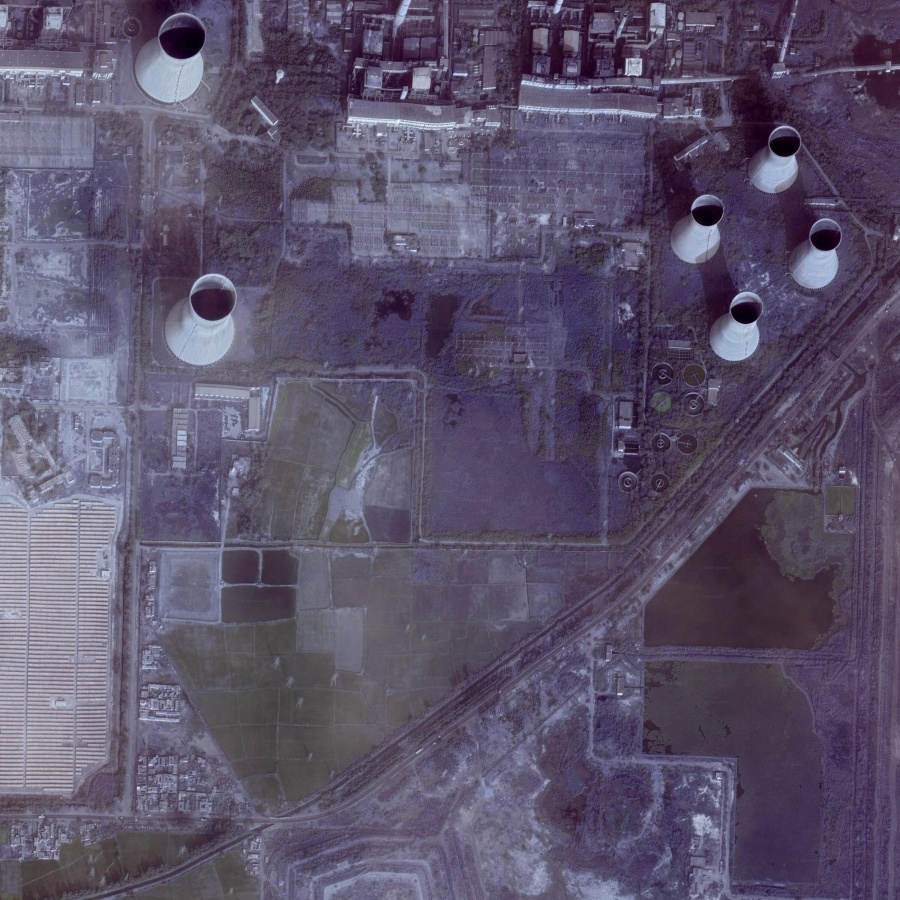PowerPlant: (145, 261, 389, 535)
